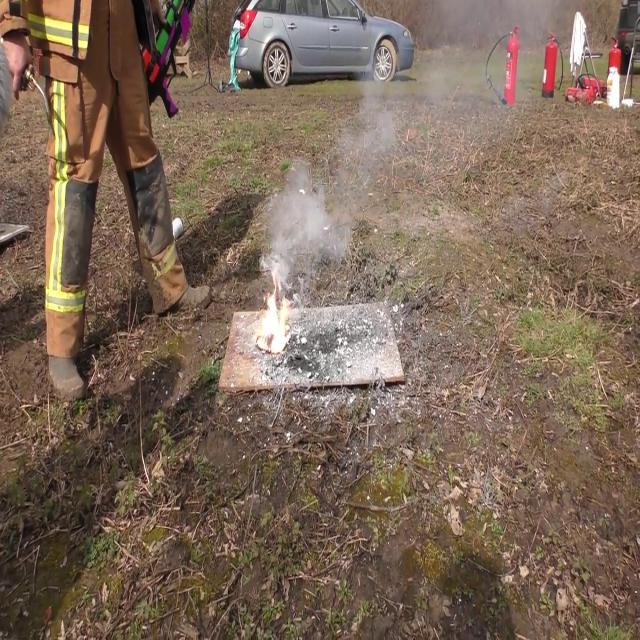Fire: (256, 288, 294, 354)
Smoke: (262, 158, 340, 288)
